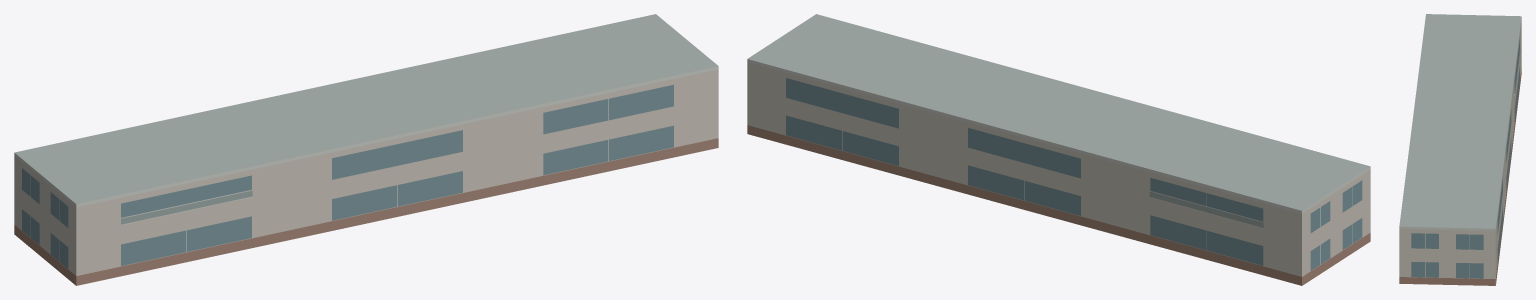
File: survey-upis-32993115.glb
3 views of the same model, side by side, from view 1: azimuth 30°, elevation 25°; view 2: azimuth 150°, elevation 25°; view 3: azimuth 270°, elevation 25° (orthographic). The views are drawn at different scales.
Parts seen in each view (by area): view 1: survey-upis-32993115.tmp; view 2: survey-upis-32993115.tmp; view 3: survey-upis-32993115.tmp.
Part boxes in pixels (bbox=[...]): survey-upis-32993115.tmp: bbox=[14, 14, 718, 285]; survey-upis-32993115.tmp: bbox=[747, 14, 1370, 285]; survey-upis-32993115.tmp: bbox=[1399, 14, 1521, 285].
Size of the model in its own units: 49.14 by 6.1 by 11.84.
